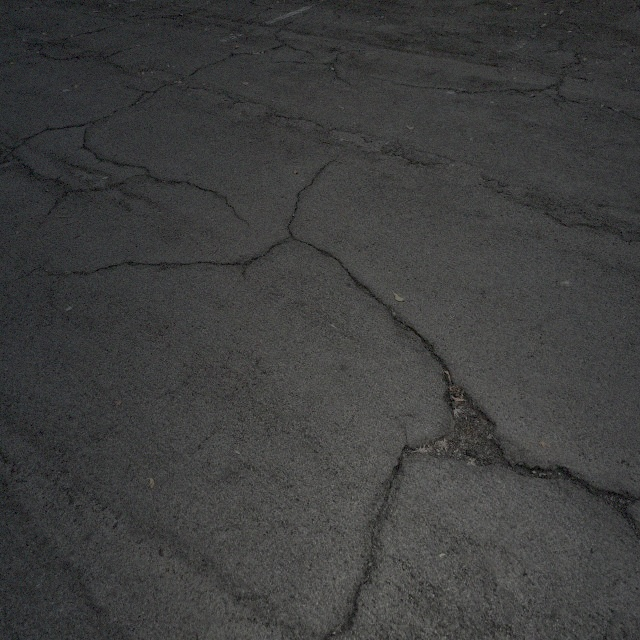pothole: (412, 364, 514, 470)
